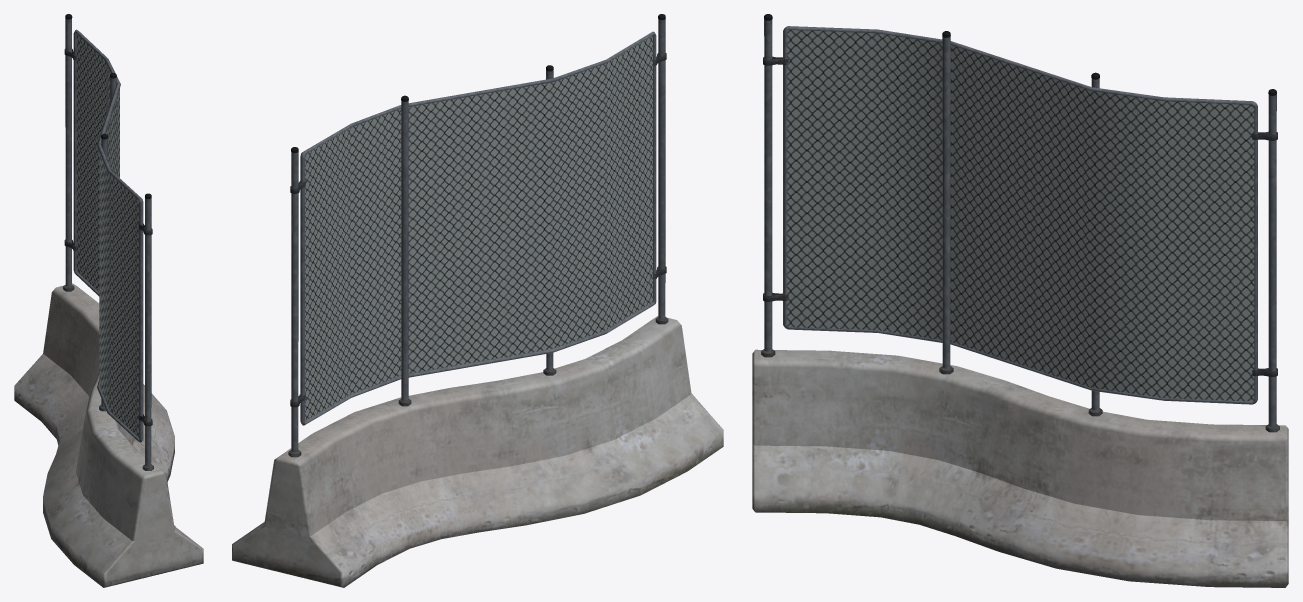
The model's file is Fence_A_D.fbx.
3 renders of one model, left to right at view 1: azimuth 30°, elevation 25°; view 2: azimuth 150°, elevation 25°; view 3: azimuth 270°, elevation 25°, orthographic. The views are drawn at different scales.
Visible parts, largest first — view 1: Fence_A_D_LOD0, Fence_A_D_Wire_LOD0; view 2: Fence_A_D_Wire_LOD0, Fence_A_D_LOD0; view 3: Fence_A_D_Wire_LOD0, Fence_A_D_LOD0.
Boxes of the visible parts, bbox=[...] form: Fence_A_D_LOD0: bbox=[14, 14, 203, 587]; Fence_A_D_Wire_LOD0: bbox=[76, 34, 139, 437]; Fence_A_D_Wire_LOD0: bbox=[305, 35, 652, 420]; Fence_A_D_LOD0: bbox=[232, 14, 723, 587]; Fence_A_D_Wire_LOD0: bbox=[786, 30, 1254, 401]; Fence_A_D_LOD0: bbox=[752, 14, 1288, 587].
Size of what is drawn, in the model's own units: 180 by 288 by 300.
